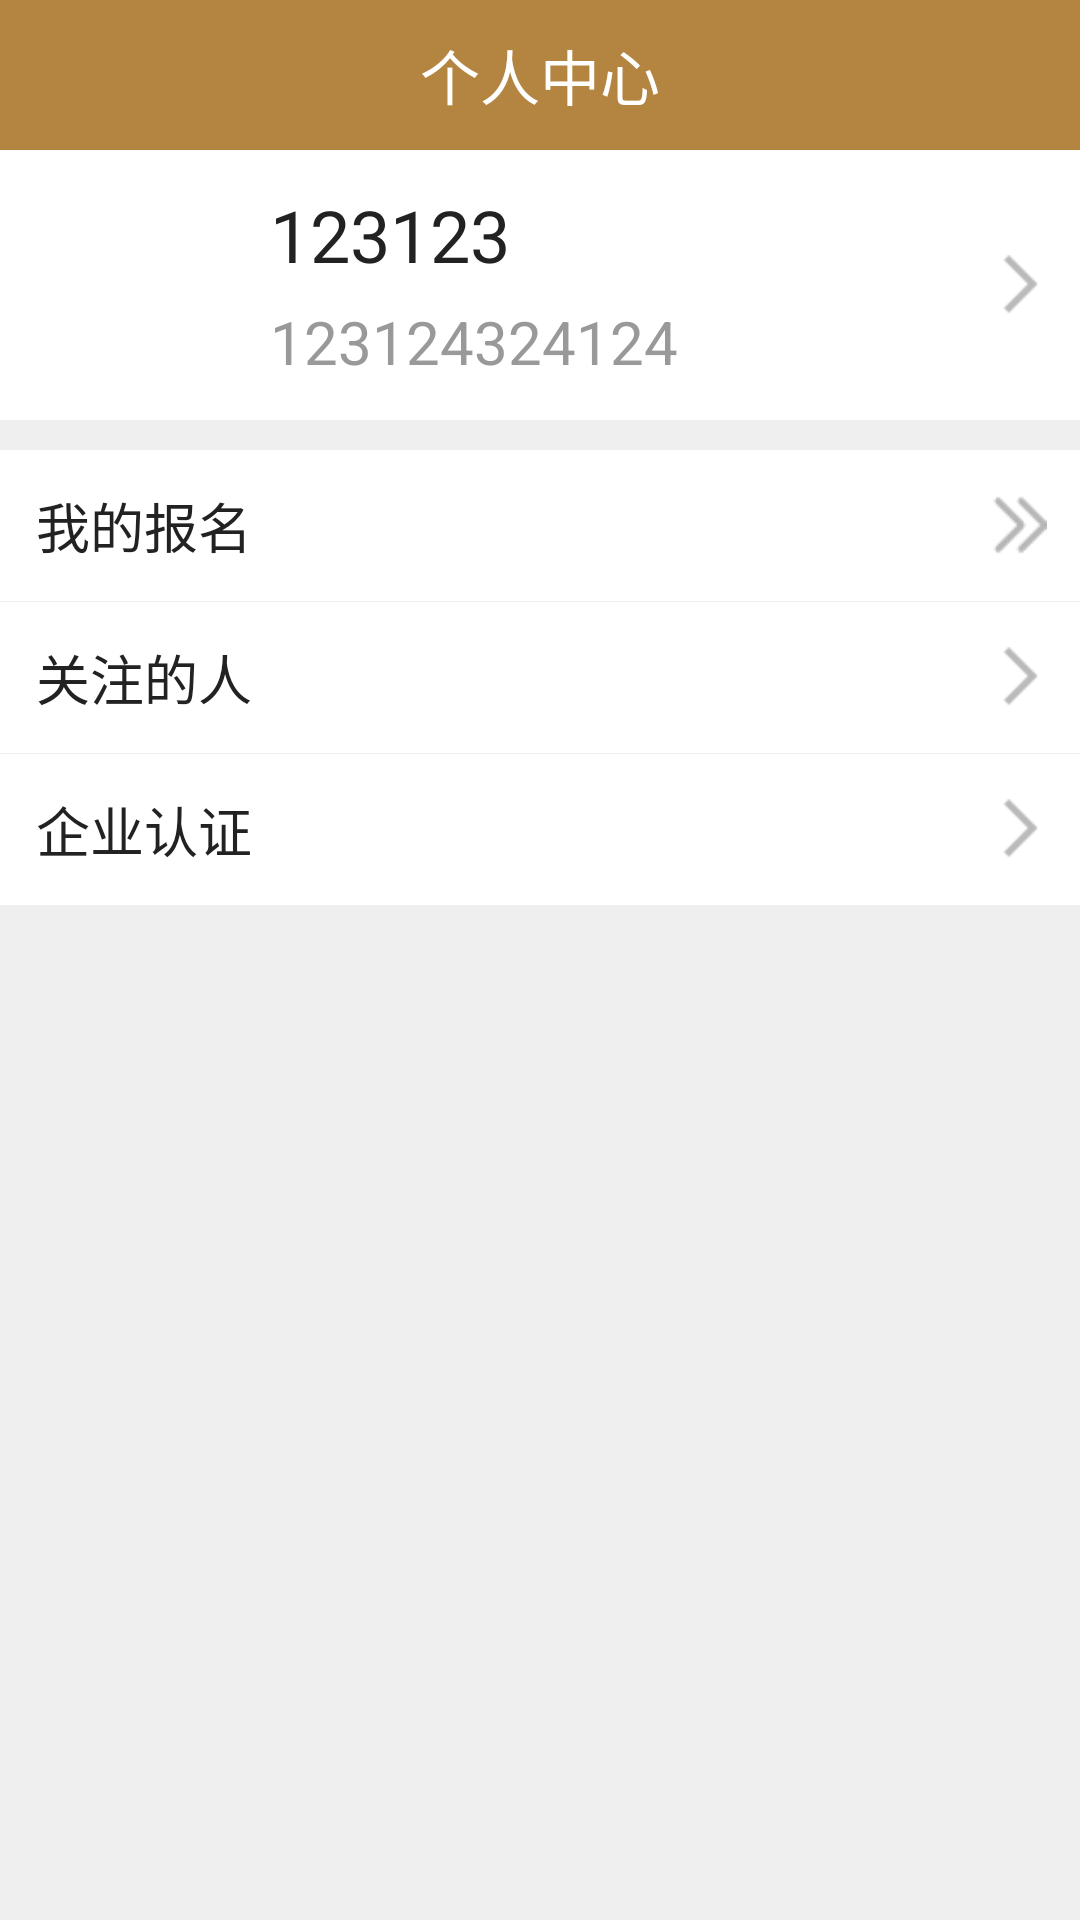

Icon bounding boxes for this 1080*1920 phone screenshot, format (x1, y1, x2, y2):
personset right: (1004, 255, 1037, 313), (995, 497, 1047, 553), (1004, 647, 1037, 705), (1004, 799, 1037, 857)
